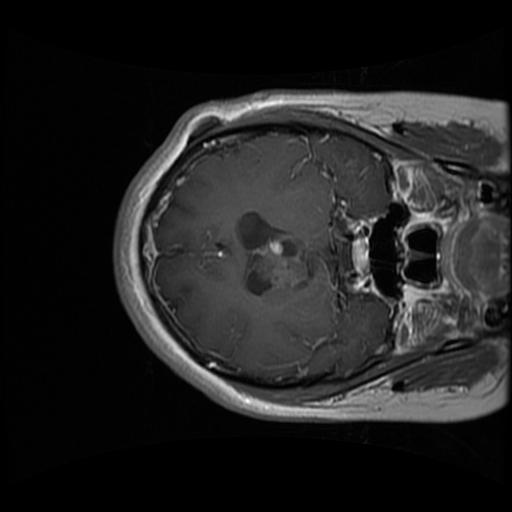glioma: (234, 208, 318, 308)
